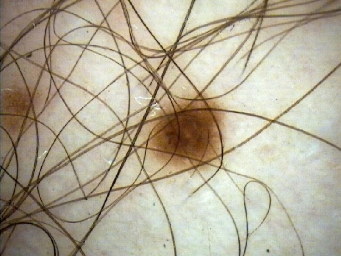melanoma: (151, 95, 226, 169)
